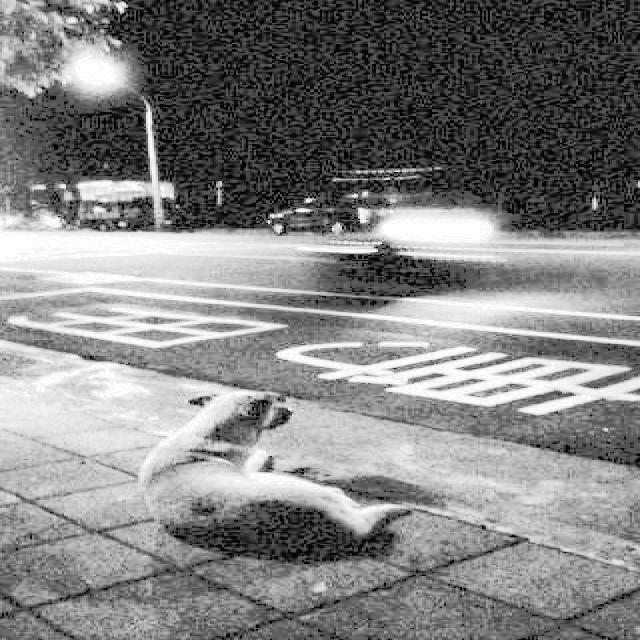Dog: (139, 381, 416, 558)
